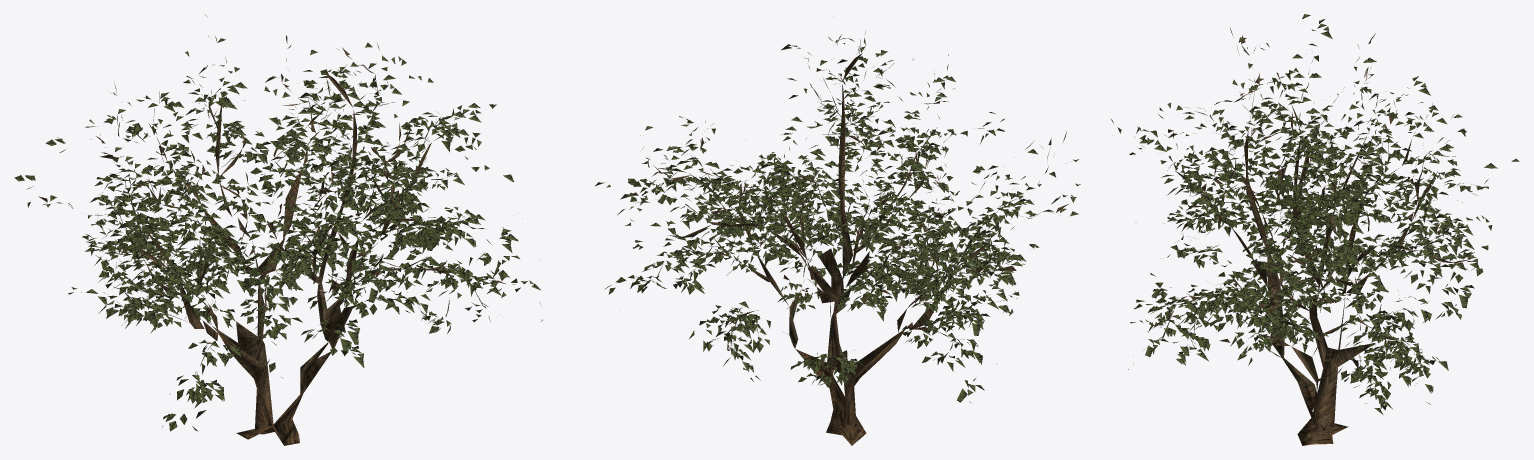
The model's file is jacaranda_tree_far.glb.
3 views of the same model, side by side, from view 1: azimuth 30°, elevation 25°; view 2: azimuth 150°, elevation 25°; view 3: azimuth 270°, elevation 25° (orthographic). The views are drawn at different scales.
Visible parts, largest first — view 1: jacaranda_tree_LOD0; view 2: jacaranda_tree_LOD0; view 3: jacaranda_tree_LOD0.
Boxes of the visible parts, x1=… form: jacaranda_tree_LOD0: x1=14, y1=14, x2=542, y2=445; jacaranda_tree_LOD0: x1=595, y1=31, x2=1080, y2=445; jacaranda_tree_LOD0: x1=1110, y1=14, x2=1519, y2=445.
Bounding box in the file's own units: 23.1 × 19.05 × 18.17.
Materials: 3 (3 with a texture image).
